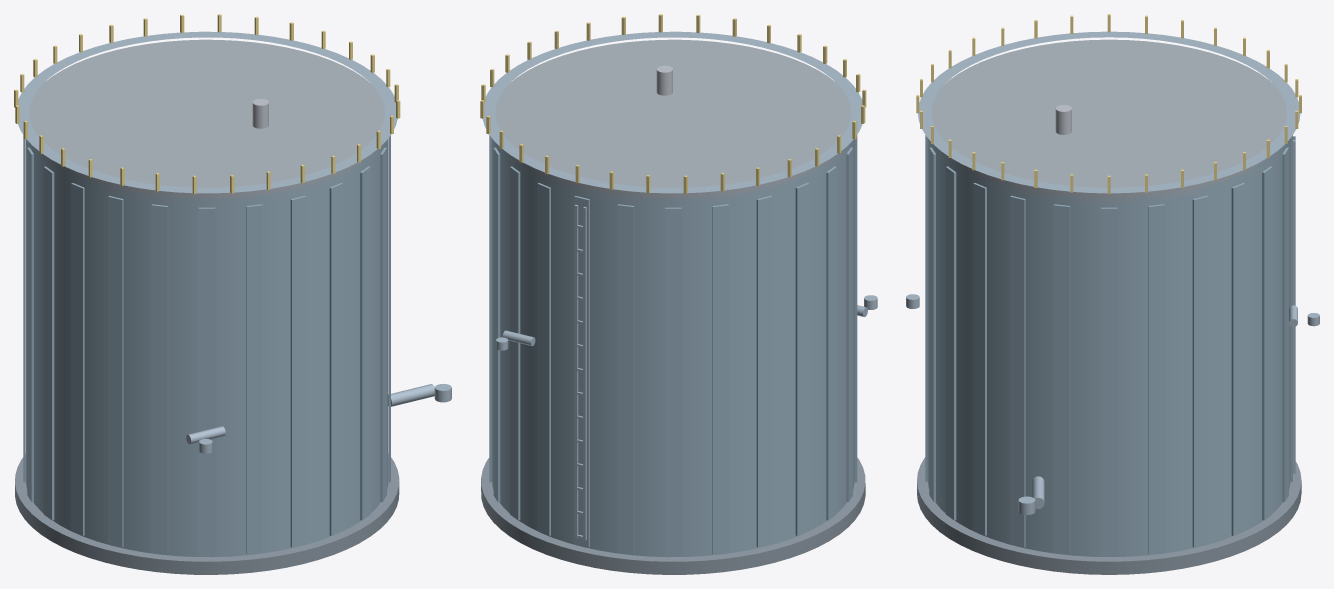
The model's file is tank_f.glb.
The picture shows the model from 3 angles, left to right: view 1: azimuth 30°, elevation 25°; view 2: azimuth 150°, elevation 25°; view 3: azimuth 270°, elevation 25°; orthographic projection.
Parts seen in each view (by area): view 1: shell, seal, foundation, walkway, panel_9, panel_8, panel_7, panel_6, panel_10, panel_5, panel_11, panel_12 (+6 smaller); view 2: shell, seal, foundation, walkway, panel_17, panel_16, panel_15, panel_14, panel_13, panel_19, panel_12, panel_20 (+7 smaller); view 3: shell, seal, foundation, walkway, panel_1, panel_0, panel_23, panel_22, panel_2, panel_21, panel_3, panel_4 (+7 smaller).
Boxes of the visible parts, box(x1,y1,x2,y2) form: shell: box(26, 139, 388, 557); seal: box(29, 39, 384, 203); foundation: box(15, 454, 399, 574); walkway: box(18, 31, 397, 193); panel_9: box(151, 204, 168, 554); panel_8: box(198, 207, 215, 556); panel_7: box(246, 204, 262, 554); panel_6: box(290, 196, 306, 547); panel_10: box(108, 195, 123, 547); panel_5: box(329, 183, 342, 535); panel_11: box(71, 183, 84, 535); panel_12: box(43, 166, 54, 520); shell: box(492, 138, 854, 557); seal: box(495, 39, 850, 203); foundation: box(481, 457, 865, 574); walkway: box(482, 31, 862, 193); panel_17: box(617, 204, 634, 554); panel_16: box(665, 207, 681, 556); panel_15: box(712, 204, 728, 554); panel_14: box(756, 196, 772, 547); panel_13: box(795, 183, 809, 535); panel_19: box(537, 183, 550, 535); panel_12: box(826, 166, 836, 520); panel_20: box(510, 166, 520, 520); shell: box(927, 138, 1290, 557); seal: box(931, 39, 1286, 203); foundation: box(917, 457, 1301, 574); walkway: box(918, 31, 1300, 193); panel_1: box(1053, 204, 1070, 554); panel_0: box(1101, 207, 1117, 556); panel_23: box(1148, 204, 1164, 554); panel_22: box(1192, 196, 1208, 547); panel_2: box(1010, 195, 1025, 547); panel_21: box(1231, 183, 1245, 535); panel_3: box(973, 183, 986, 535); panel_4: box(945, 166, 956, 520).
Bounding box in the file's own units: 5.53 × 5.72 × 5.36.
